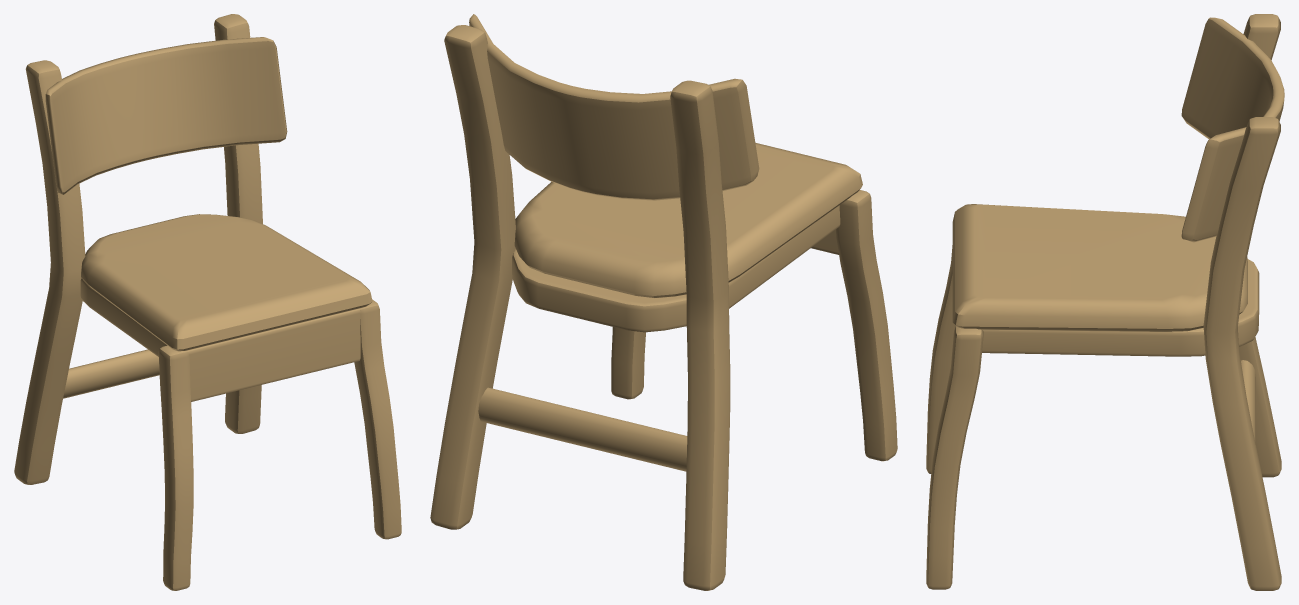
The model's file is Chair_FUR.FBX.
3 views of the same model, side by side, from view 1: azimuth 30°, elevation 25°; view 2: azimuth 150°, elevation 25°; view 3: azimuth 270°, elevation 25° (orthographic). The views are drawn at different scales.
Parts seen in each view (by area): view 1: pCylinder2; view 2: pCylinder2; view 3: pCylinder2.
Boxes of the visible parts, <box> form: pCylinder2: <box>14,14,401,590</box>; pCylinder2: <box>430,14,897,590</box>; pCylinder2: <box>926,14,1284,590</box>.
Size of the model in its own units: 1.16 by 1.93 by 1.36.
